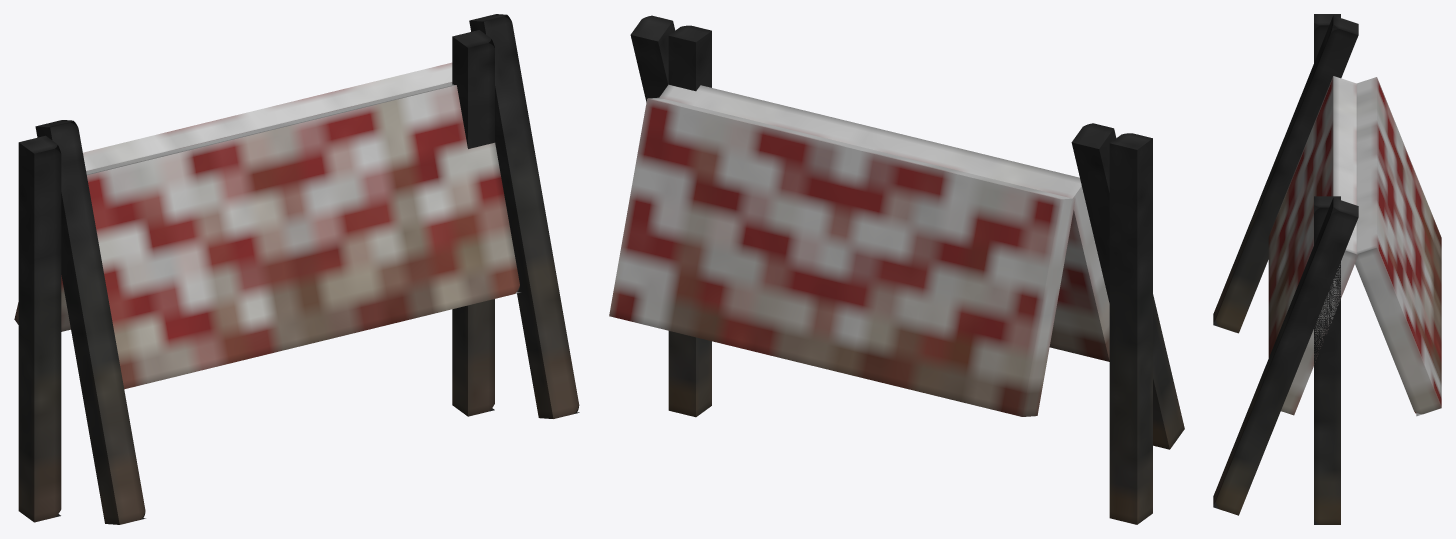
File: hazardbarrier.obj
The picture shows the model from 3 angles, left to right: view 1: azimuth 30°, elevation 25°; view 2: azimuth 150°, elevation 25°; view 3: azimuth 270°, elevation 25°; orthographic projection. The views are drawn at different scales.
Parts seen in each view (by area): view 1: nB, nz, ny, nx, nA, nC; view 2: nC, nz, nB, ny, nA, nx; view 3: nC, nB, nx, ny, nA, nz.
Part boxes in pixels (x1,y1,x2,y2): nB: [86, 82, 520, 389]; nz: [18, 135, 61, 522]; ny: [35, 120, 145, 524]; nx: [469, 14, 579, 418]; nA: [452, 30, 494, 416]; nC: [14, 62, 452, 331]; nC: [609, 97, 1075, 416]; nz: [1109, 133, 1152, 524]; nB: [659, 84, 1109, 361]; ny: [1071, 123, 1184, 449]; nA: [668, 25, 711, 417]; nx: [630, 15, 675, 102]; nC: [1355, 77, 1441, 416]; nB: [1268, 76, 1358, 415]; nx: [1213, 198, 1358, 515]; ny: [1213, 15, 1358, 333]; nA: [1314, 196, 1340, 524]; nz: [1314, 14, 1340, 62].
Bounding box in the file's own units: 1.12 × 0.8376 × 0.529.
Materials: 1 (1 with a texture image).
